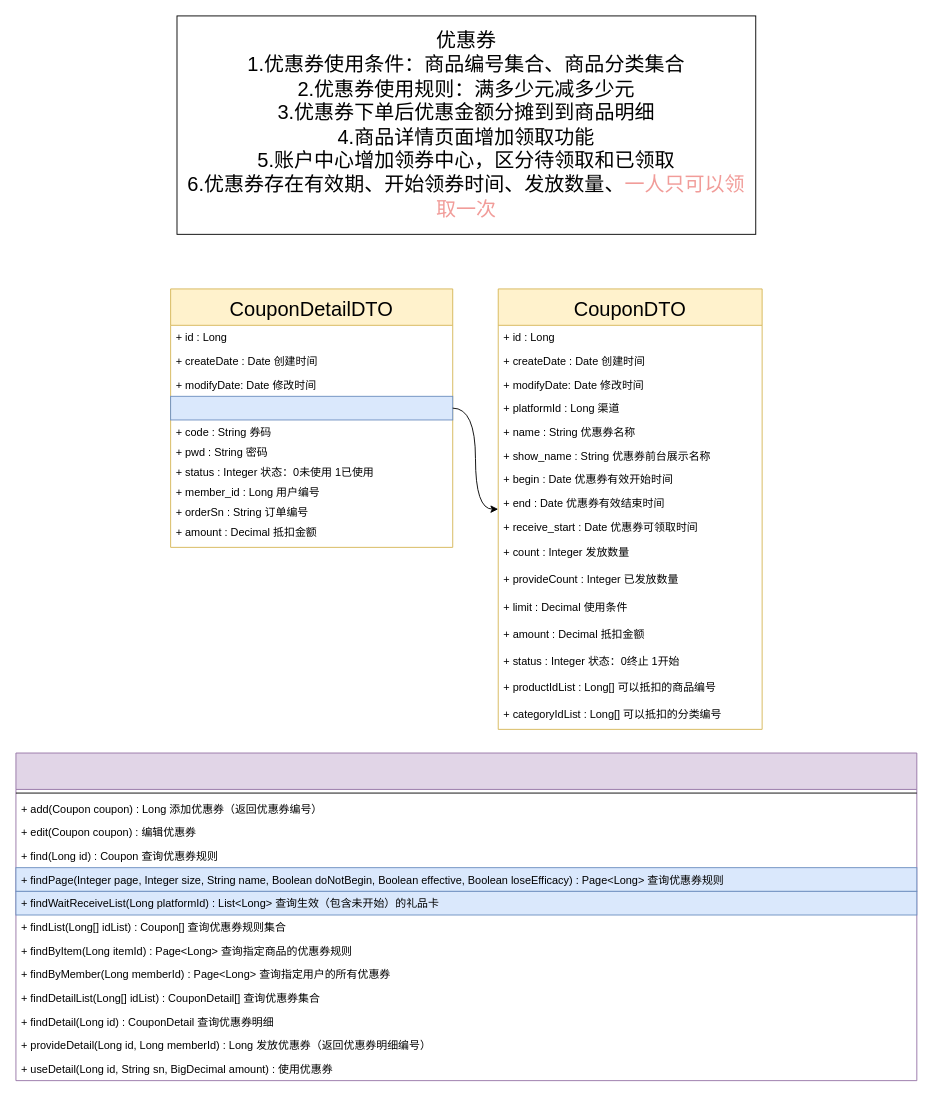
This 933x1099 diagram has some shape labels left out. The box of each missing label's shape, as (x1, y1, x2, y2) in pixels:
+ coupon : Coupon 优惠券规则: (170, 395, 453, 420)
CouponApiService: (15, 752, 917, 1081)
